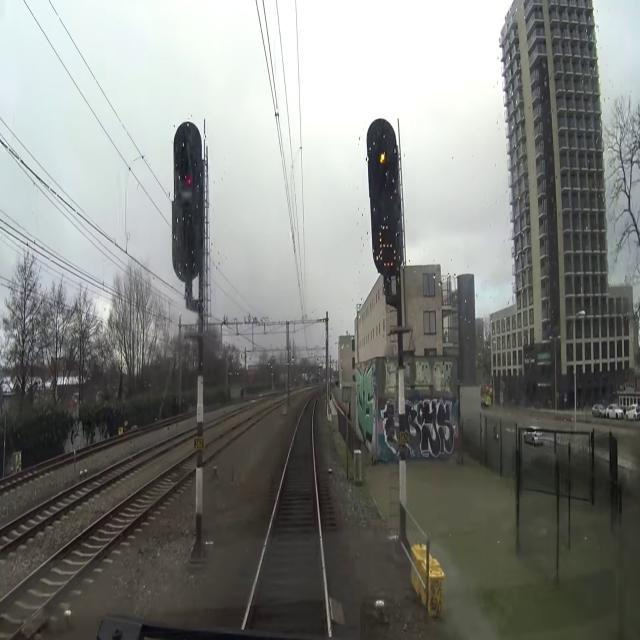rail-track: (0, 455, 195, 639), (248, 398, 326, 630), (0, 461, 132, 543), (202, 421, 248, 456)
